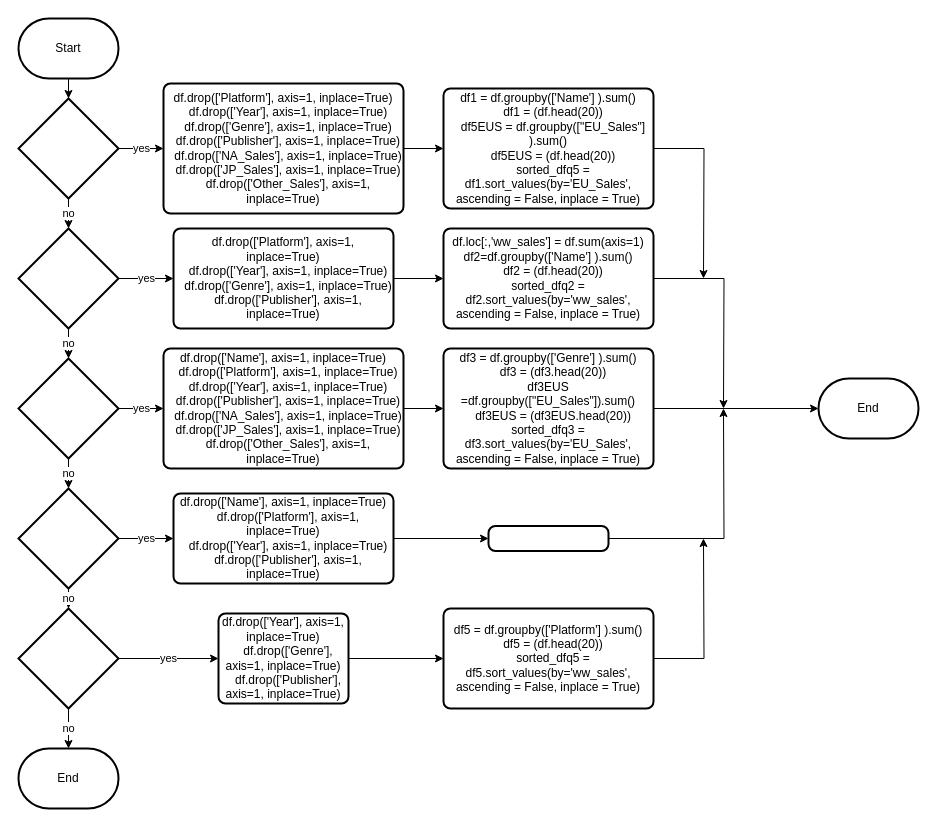
This 936x826 diagram has some shape labels left out. Here are the shapes that lost their labels. From the top down, the centre of each, then its label:
[68,148]: is str(radio.get()) == "1"?
[68,278]: is str(radio.get()) == "2"?
[68,408]: is str(radio.get()) == "3"?
[68,538]: is str(radio.get()) == "4"?
[548,538]: df4 = (df.head(20))
[68,658]: is str(radio.get()) == "5"?
